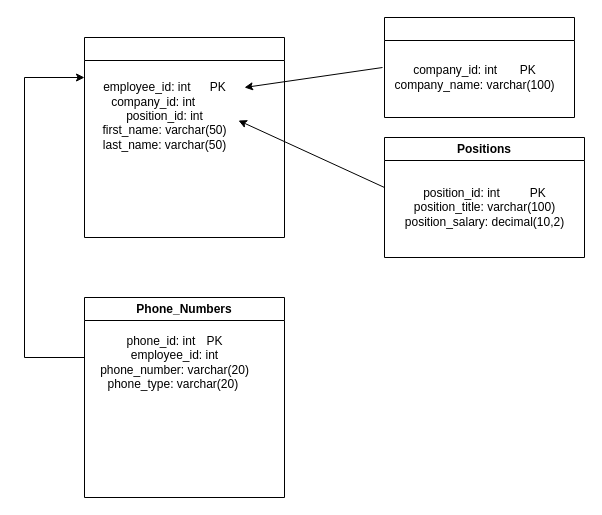
Some shapes in this 602 by 515 pixel diagram are drawn without their labels. Each missing label, with the box of its shape:
Companies: (384, 16, 574, 118)
Employees: (84, 36, 284, 238)
